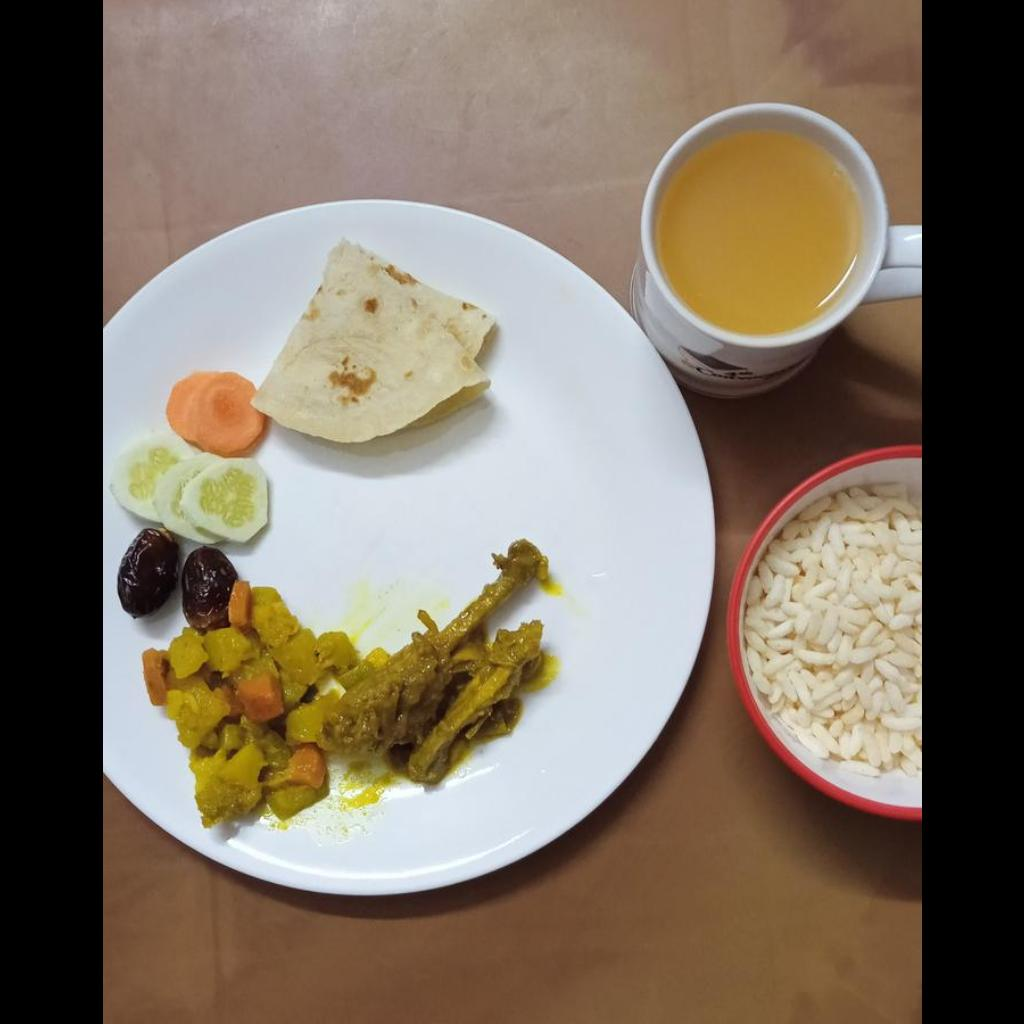carrot: (165, 372, 267, 453)
chicken: (331, 542, 542, 782)
cucumber: (107, 446, 274, 545)
dates: (118, 531, 232, 625)
juice: (656, 129, 861, 332)
puffed-rice: (735, 481, 919, 777)
ruti: (255, 241, 492, 452)
vegetable: (136, 585, 370, 821)
